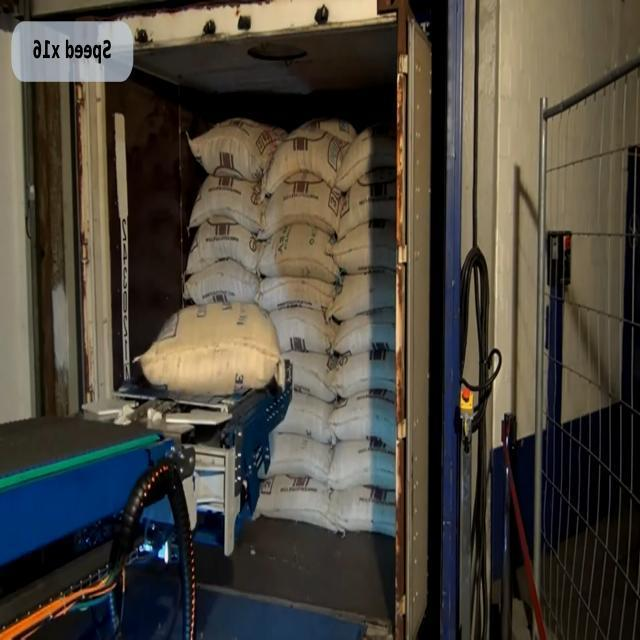gunny_bag: (138, 302, 281, 395), (188, 116, 287, 180), (263, 126, 349, 193), (259, 171, 340, 238), (258, 223, 339, 282), (188, 175, 267, 233), (334, 119, 396, 191), (185, 219, 261, 274), (338, 166, 396, 238), (258, 430, 333, 482), (329, 393, 396, 451), (327, 219, 396, 273), (183, 258, 259, 304), (326, 270, 395, 320), (329, 486, 396, 537), (328, 440, 395, 490), (269, 307, 339, 353), (275, 391, 335, 444), (332, 308, 395, 354), (283, 350, 337, 402), (258, 276, 336, 311)
